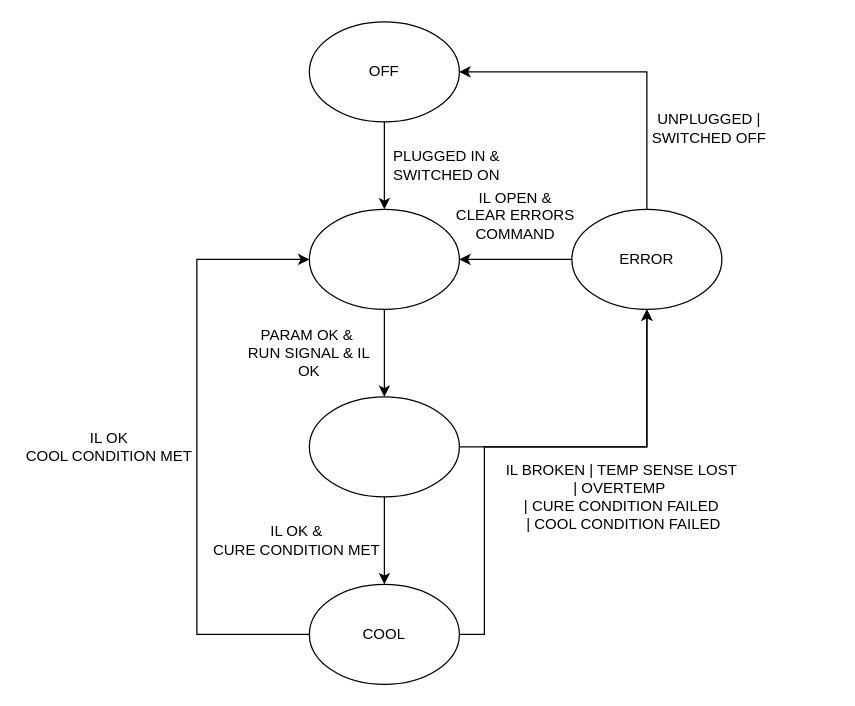
Some shapes in this 855 by 706 pixel diagram are drawn without their labels. The centre of each missing label's shape, as x and y in pixels:
"CURE" belongs at (383,446).
"STARTUP" belongs at (383,258).
